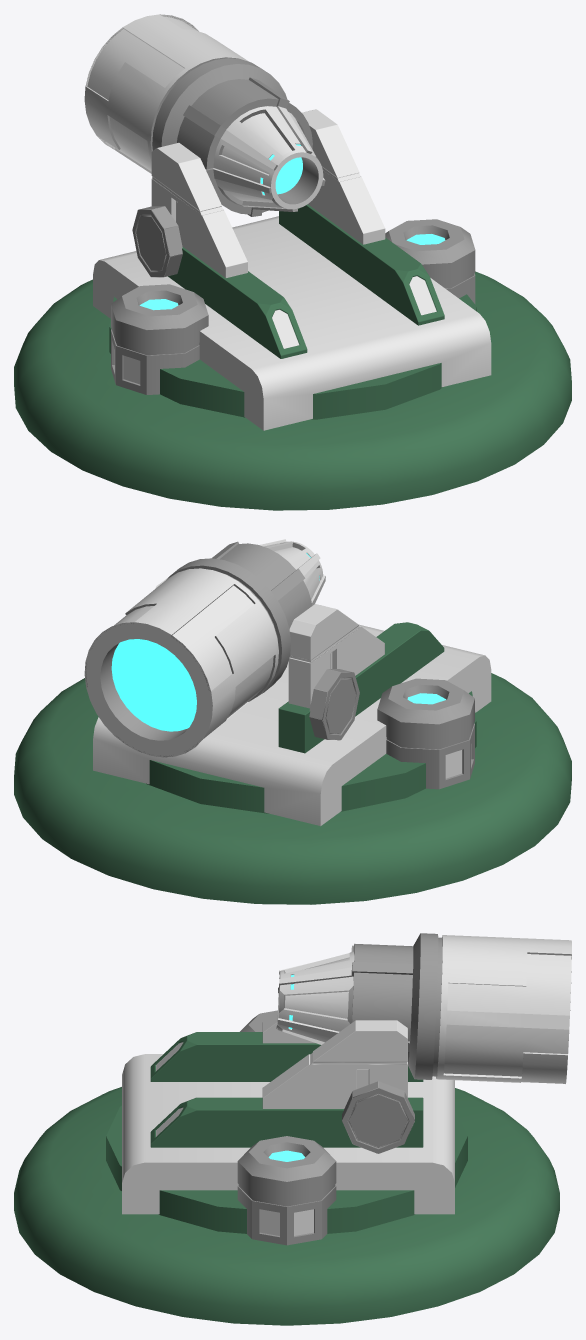
File: Turrent.fbx
3 views of the same model, one above another, from view 1: azimuth 30°, elevation 25°; view 2: azimuth 150°, elevation 25°; view 3: azimuth 270°, elevation 25° (orthographic). The views are drawn at different scales.
Parts seen in each view (by area): view 1: Base, Body 3, Head, Bddy 2, Body 5, Body1, Body 6, Body 4; view 2: Base, Head, Body 3, Body 5, Body 6, Body1, Bddy 2, Body 4; view 3: Base, Head, Body 3, Bddy 2, Body 5, Body1, Body 6, Body 4.
Part boxes in pixels (box(x1,y1,x2,y2)): Base: box(14, 271, 571, 510); Body 3: box(93, 216, 491, 430); Head: box(84, 14, 325, 216); Bddy 2: box(168, 204, 444, 358); Body 5: box(111, 219, 475, 394); Body1: box(151, 109, 385, 277); Body 6: box(109, 294, 476, 419); Body 4: box(132, 206, 182, 277); Base: box(14, 673, 571, 904); Head: box(84, 539, 325, 757); Body 3: box(93, 624, 491, 825); Body 5: box(377, 678, 474, 789); Body 6: box(146, 691, 476, 813); Body1: box(155, 578, 384, 708); Bddy 2: box(278, 622, 444, 753); Body 4: box(309, 669, 359, 740); Base: box(14, 1087, 559, 1325); Head: box(276, 933, 571, 1083); Body 3: box(122, 1054, 454, 1214); Bddy 2: box(150, 1032, 423, 1147); Body 5: box(237, 1010, 336, 1245); Body1: box(262, 1011, 407, 1108); Body 6: box(106, 1105, 467, 1233); Body 4: box(342, 1081, 414, 1153).
Size of the model in its own units: 302 by 165 by 309.
